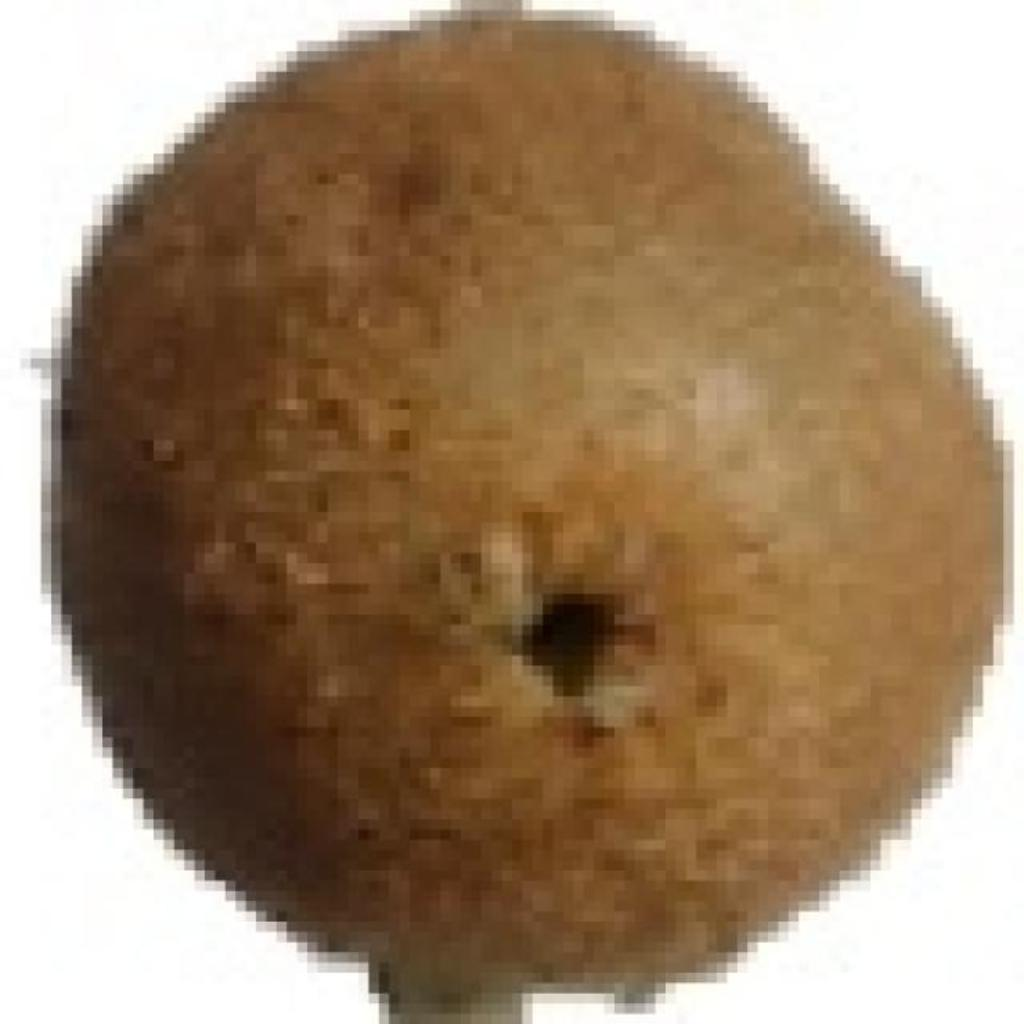kiwi: (57, 20, 999, 1019)
